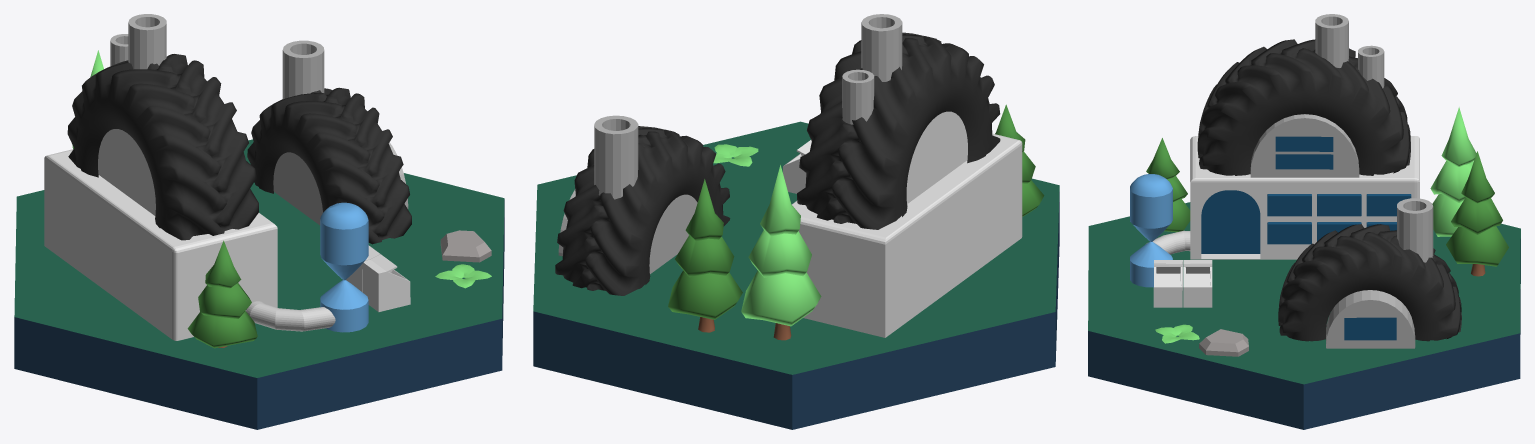
Rendered from Macro - transportation factory lv3 wm2.fbx.
3 views of the same model, side by side, from view 1: azimuth 30°, elevation 25°; view 2: azimuth 150°, elevation 25°; view 3: azimuth 270°, elevation 25° (orthographic). The views are drawn at different scales.
Parts seen in each view (by area): view 1: Cylinder.154, Cylinder.018, Cube.002, Cylinder.007, Cylinder.014, Tree_Spruce_tiny_01.001, Cylinder.020, Cylinder.003, Cylinder.006, Cube.138, Cylinder.011, Cube.005 (+3 smaller); view 2: Cylinder.154, Cube.002, Cylinder.018, Cylinder.007, Tree_Spruce_tiny_01.002, Tree_Spruce_tiny_01.003, Cylinder.020, Cylinder.003, Cylinder.011, Cylinder.006, Cylinder.004, Tree_Spruce_tiny_01.001 (+2 smaller); view 3: Cylinder.154, Cylinder.018, Cylinder.007, Cube.002, Tree_Spruce_tiny_01.003, Cylinder.016, Cylinder.014, Cube.008, Cylinder.015, Tree_Spruce_tiny_01.002, Cylinder.003, Cylinder.011 (+14 smaller).
Boxes of the visible parts, left/top/right/bottom form: Cylinder.154: left=14, top=139, right=504, bottom=429; Cylinder.018: left=67, top=54, right=258, bottom=240; Cube.002: left=44, top=149, right=277, bottom=340; Cylinder.007: left=247, top=87, right=411, bottom=244; Cylinder.014: left=320, top=202, right=368, bottom=332; Tree_Spruce_tiny_01.001: left=187, top=240, right=257, bottom=348; Cylinder.020: left=98, top=129, right=155, bottom=215; Cylinder.003: left=282, top=40, right=324, bottom=99; Cylinder.006: left=273, top=152, right=322, bottom=225; Cube.138: left=362, top=254, right=410, bottom=311; Cylinder.011: left=128, top=14, right=166, bottom=69; Cube.005: left=246, top=301, right=335, bottom=331; Cylinder.154: left=533, top=121, right=1059, bottom=429; Cube.002: left=791, top=133, right=1022, bottom=337; Cylinder.018: left=797, top=32, right=1000, bottom=229; Cylinder.007: left=555, top=126, right=730, bottom=295; Tree_Spruce_tiny_01.002: left=741, top=165, right=821, bottom=340; Tree_Spruce_tiny_01.003: left=668, top=179, right=742, bottom=332; Cylinder.020: left=906, top=111, right=967, bottom=203; Cylinder.003: left=594, top=115, right=638, bottom=199; Cylinder.011: left=861, top=14, right=902, bottom=81; Cylinder.006: left=649, top=194, right=697, bottom=273; Cylinder.004: left=842, top=69, right=874, bottom=124; Tree_Spruce_tiny_01.001: left=995, top=104, right=1044, bottom=216; Cylinder.154: left=1088, top=202, right=1520, bottom=429; Cylinder.018: left=1197, top=39, right=1410, bottom=175; Cylinder.007: left=1278, top=224, right=1461, bottom=341; Cube.002: left=1190, top=136, right=1419, bottom=259; Tree_Spruce_tiny_01.003: left=1446, top=151, right=1508, bottom=276; Cylinder.016: left=1250, top=114, right=1359, bottom=177; Cylinder.014: left=1130, top=174, right=1172, bottom=287; Cube.008: left=1201, top=190, right=1260, bottom=253; Cylinder.015: left=1326, top=290, right=1415, bottom=348; Tree_Spruce_tiny_01.002: left=1430, top=107, right=1476, bottom=236; Cylinder.003: left=1397, top=198, right=1433, bottom=262; Cylinder.011: left=1315, top=14, right=1348, bottom=67.
Bounding box in the file's own units: 197 × 115 × 172.
